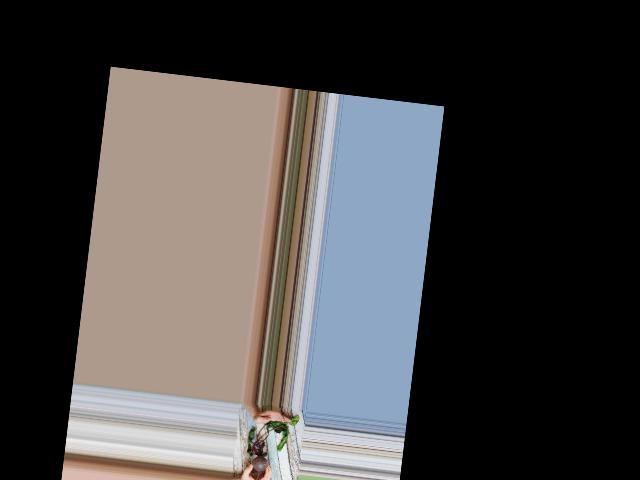beet: (243, 410, 299, 480)
